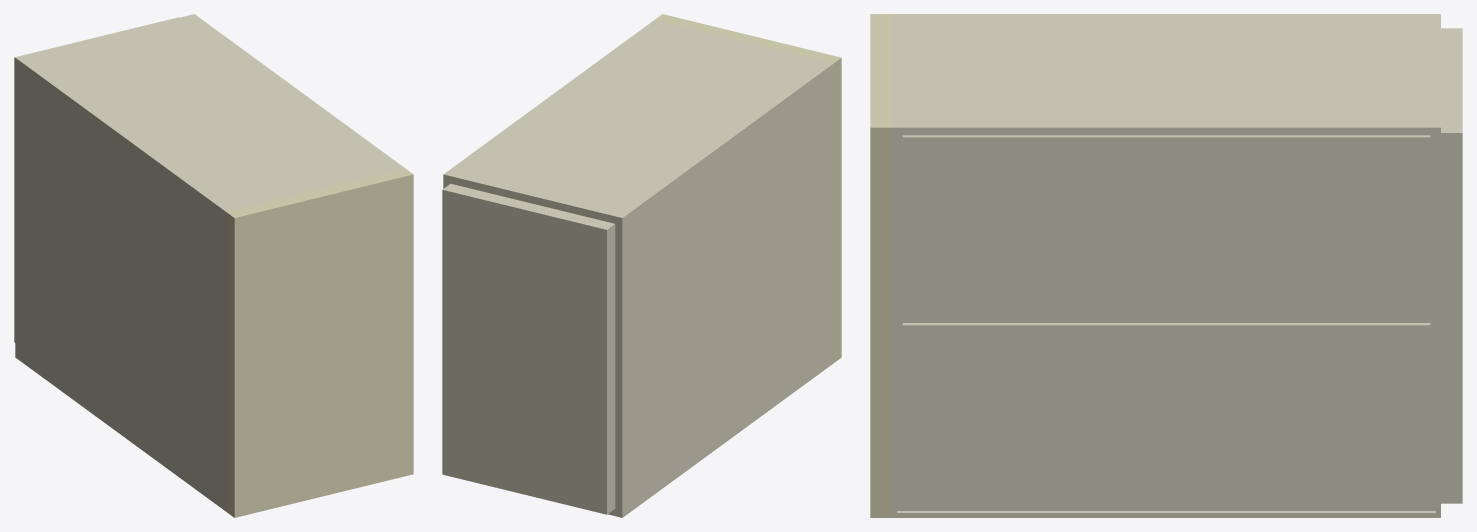
File: SmallCabinet.obj
3 views of the same model, side by side, from view 1: azimuth 30°, elevation 25°; view 2: azimuth 150°, elevation 25°; view 3: azimuth 270°, elevation 25° (orthographic). The views are drawn at different scales.
Visible parts, largest first — view 1: mesh7, mesh35, mesh6, mesh33, mesh32, mesh28; view 2: mesh7, mesh30, mesh6, mesh5, mesh33, mesh28, mesh32, mesh27; view 3: mesh19, mesh24, mesh6, mesh9, mesh14, mesh31, mesh26, mesh32, mesh27, mesh17, mesh20, mesh13.
Boxes of the visible parts, left/top/right/bottom form: mesh7: left=15, top=58, right=226, bottom=511; mesh35: left=234, top=174, right=413, bottom=517; mesh6: left=16, top=14, right=404, bottom=211; mesh33: left=226, top=212, right=234, bottom=517; mesh32: left=226, top=168, right=413, bottom=217; mesh28: left=14, top=57, right=15, bottom=342; mesh7: left=622, top=64, right=833, bottom=517; mesh30: left=442, top=190, right=606, bottom=514; mesh6: left=443, top=20, right=832, bottom=217; mesh5: left=443, top=174, right=622, bottom=517; mesh33: left=833, top=58, right=841, bottom=363; mesh28: left=607, top=224, right=615, bottom=514; mesh32: left=655, top=14, right=841, bottom=63; mesh27: left=442, top=183, right=614, bottom=229; mesh19: left=902, top=325, right=1430, bottom=508; mesh24: left=902, top=137, right=1430, bottom=320; mesh6: left=892, top=14, right=1440, bottom=127; mesh9: left=892, top=127, right=1440, bottom=517; mesh14: left=897, top=132, right=1435, bottom=510; mesh31: left=870, top=127, right=891, bottom=517; mesh26: left=1441, top=133, right=1462, bottom=503; mesh32: left=870, top=14, right=891, bottom=127; mesh27: left=1441, top=28, right=1462, bottom=132; mesh17: left=902, top=323, right=1430, bottom=325; mesh20: left=902, top=135, right=1430, bottom=137; mesh13: left=897, top=511, right=1435, bottom=512.
Bounding box in the file's own units: 0.5 × 0.8 × 1.1.
